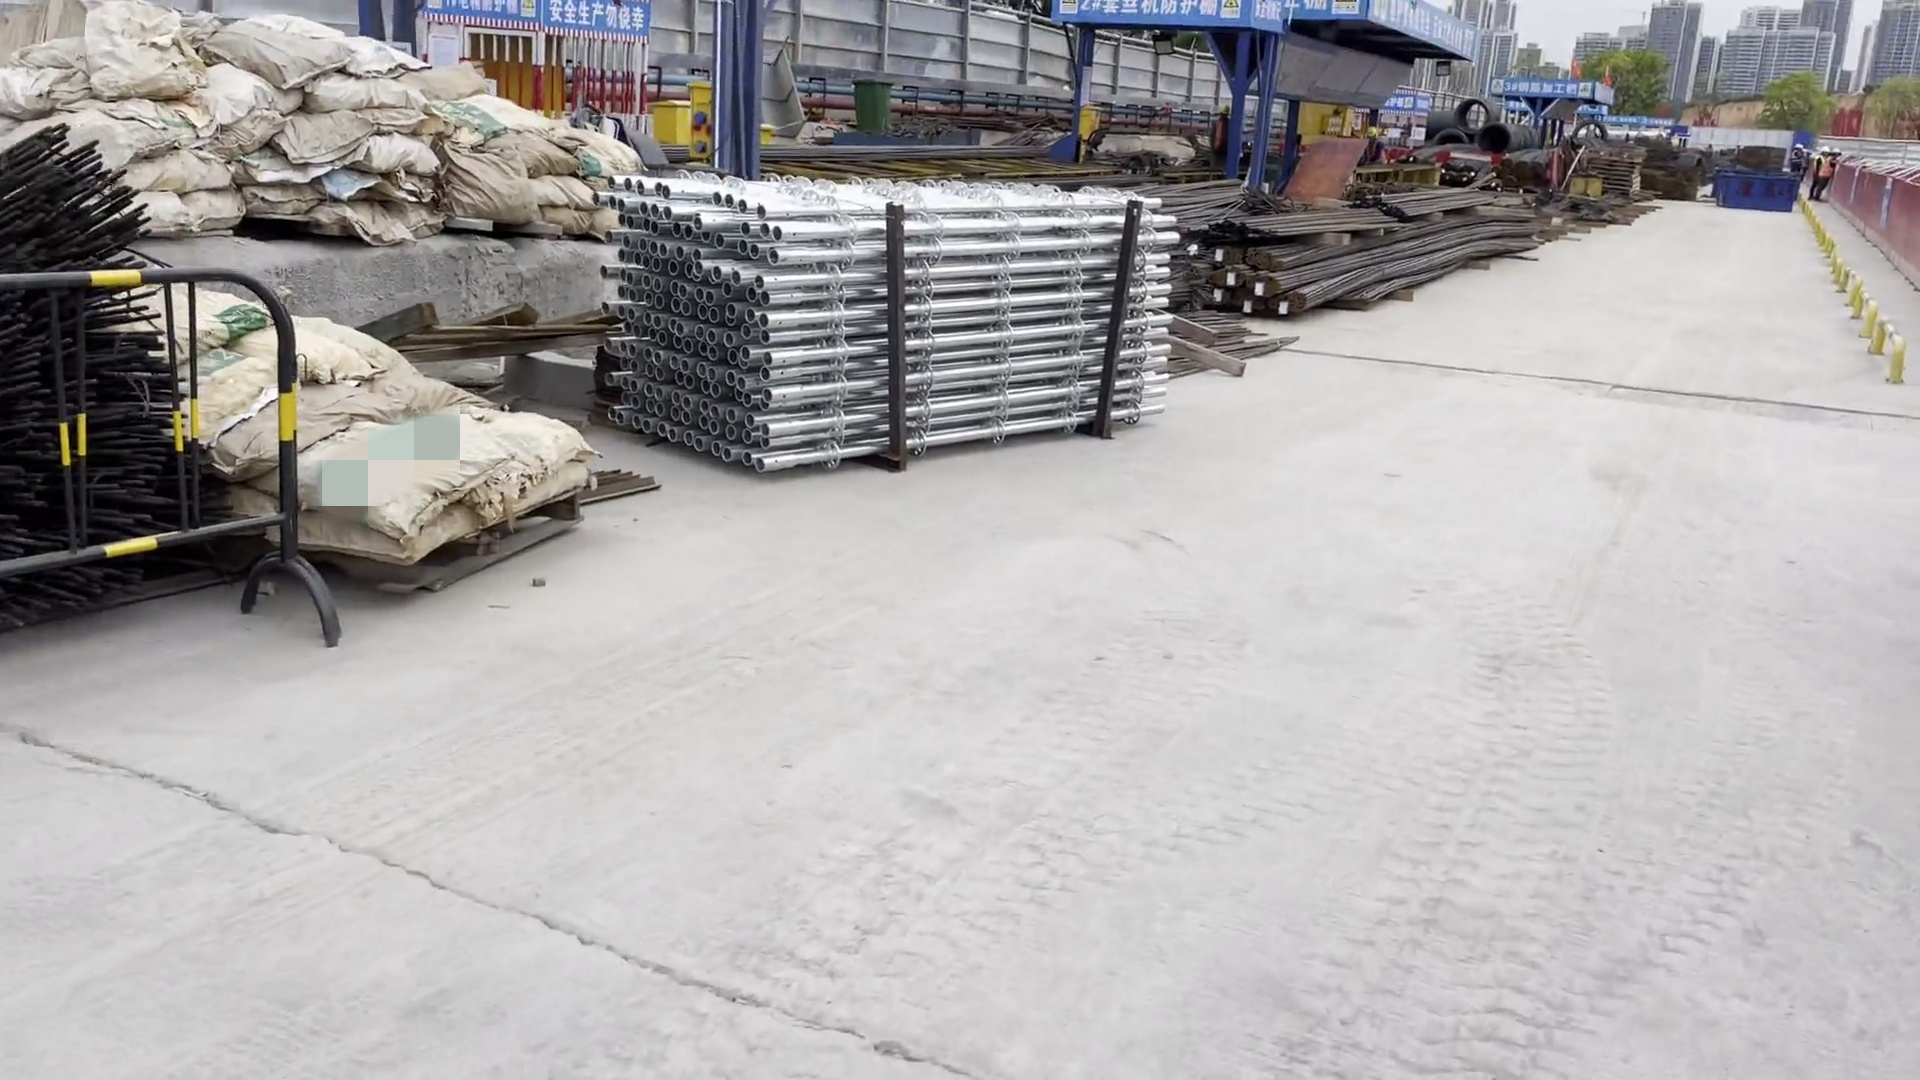ebox: (633, 95, 688, 154), (685, 74, 719, 169), (1075, 101, 1100, 142)
fence: (1818, 145, 1920, 283)
helmet: (1831, 148, 1840, 155), (1820, 148, 1829, 154), (1794, 144, 1803, 150)
hopper: (1706, 172, 1810, 217)
person: (1815, 150, 1843, 201), (1791, 144, 1808, 173)
rebar: (1138, 167, 1528, 311)
scaffold: (592, 167, 1177, 472)
vest: (1822, 158, 1835, 179), (1813, 158, 1824, 178), (1790, 151, 1800, 164)
